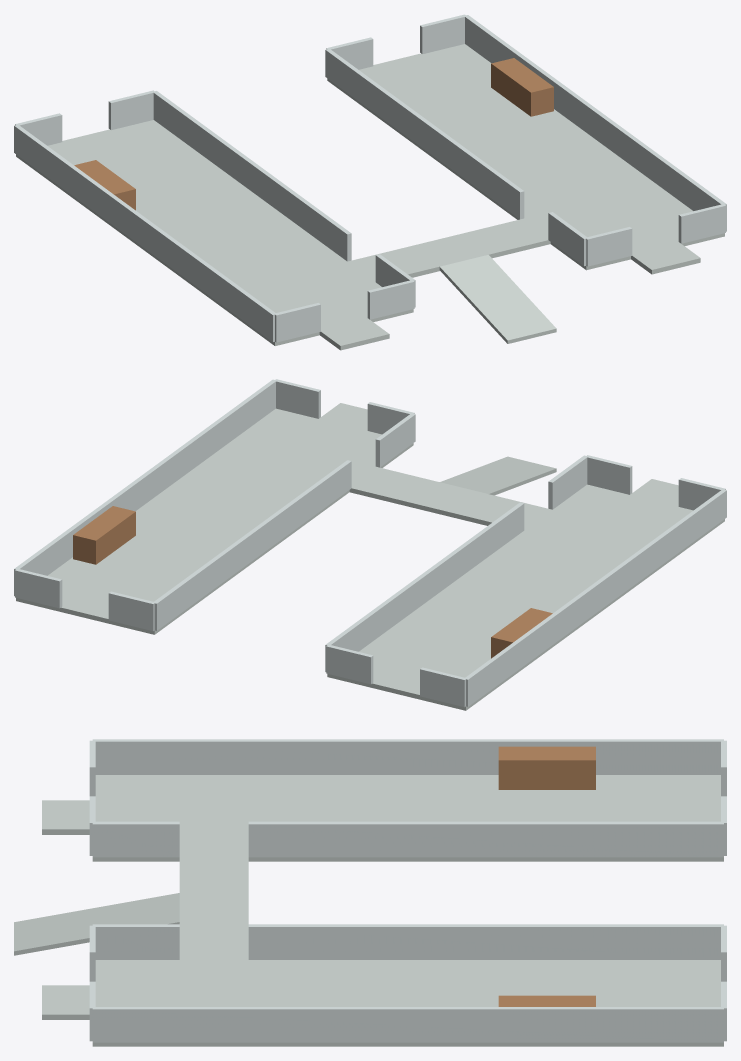
Rendered from engineering-workshop-cutaway.glb.
3 views of the same model, one above another, from view 1: azimuth 30°, elevation 25°; view 2: azimuth 150°, elevation 25°; view 3: azimuth 270°, elevation 25° (orthographic). The views are drawn at different scales.
Visible parts, largest first — view 1: engineering-workshop/bank-floor-1/cutaway.002, engineering-workshop/bank-floor--1/cutaway.002, engineering-workshop/bank-wall--1--7.809999999999999/cutaway, engineering-workshop/bank-wall-1-7.809999999999999/cutaway.0, engineering-workshop/bridge-bank-wall-1-rear/cutaway.002, engineering-workshop/bridge-bank-wall--1-rear/cutaway.002, waterworks-entry-ramp.005, engineering-workshop/elevated-channel-catwalk/cutaway.002, engineering-workshop/bench-1/cutaway.002, engineering-workshop/end--1-7.785-1/cutaway.002, engineering-workshop/end-1-7.785-1/cutaway.002, engineering-workshop/end-1-7.785--1/cutaway.002 (+10 smaller); view 2: engineering-workshop/bank-floor-1/cutaway.002, engineering-workshop/bank-floor--1/cutaway.002, engineering-workshop/bank-wall--1--7.809999999999999/cutaway, engineering-workshop/bank-wall-1-7.809999999999999/cutaway.0, engineering-workshop/bridge-bank-wall-1-rear/cutaway.002, engineering-workshop/bridge-bank-wall--1-rear/cutaway.002, engineering-workshop/elevated-channel-catwalk/cutaway.002, engineering-workshop/bench-1/cutaway.002, waterworks-entry-ramp.005, engineering-workshop/end-1--7.785-1/cutaway.002, engineering-workshop/end--1--7.785-1/cutaway.002, engineering-workshop/end-1--7.785--1/cutaway.002 (+10 smaller); view 3: engineering-workshop/bank-floor--1/cutaway.002, engineering-workshop/bank-floor-1/cutaway.002, engineering-workshop/bank-wall-1-7.809999999999999/cutaway.0, engineering-workshop/bank-wall--1--7.809999999999999/cutaway, engineering-workshop/bridge-bank-wall--1-rear/cutaway.002, engineering-workshop/bridge-bank-wall-1-rear/cutaway.002, engineering-workshop/elevated-channel-catwalk/cutaway.002, waterworks-entry-ramp.005, engineering-workshop/bench--1/cutaway.002, engineering-workshop/bridge-bank-wall--1-front/cutaway.002, engineering-workshop/bridge-bank-wall-1-front/cutaway.002, engineering-workshop/portal-floor-0/cutaway.002 (+2 smaller).
Part boxes in pixels (x1,y1,x2,y2): engineering-workshop/bank-floor-1/cutaway.002: (327,44,724,270); engineering-workshop/bank-floor--1/cutaway.002: (16,120,413,345); engineering-workshop/bank-wall--1--7.809999999999999/cutaway: (14,124,276,341); engineering-workshop/bank-wall-1-7.809999999999999/cutaway.0: (464,15,726,231); engineering-workshop/bridge-bank-wall-1-rear/cutaway.002: (325,48,524,219); engineering-workshop/bridge-bank-wall--1-rear/cutaway.002: (153,91,351,261); waterworks-entry-ramp.005: (439,255,556,343); engineering-workshop/elevated-channel-catwalk/cutaway.002: (350,219,550,279); engineering-workshop/bench-1/cutaway.002: (491,58,553,116); engineering-workshop/end--1-7.785-1/cutaway.002: (367,280,414,319); engineering-workshop/end-1-7.785-1/cutaway.002: (678,204,725,243); engineering-workshop/end-1-7.785--1/cutaway.002: (586,227,632,266); engineering-workshop/bank-floor-1/cutaway.002: (16,408,413,634); engineering-workshop/bank-floor--1/cutaway.002: (327,484,724,710); engineering-workshop/bank-wall--1--7.809999999999999/cutaway: (464,489,726,706); engineering-workshop/bank-wall-1-7.809999999999999/cutaway.0: (14,379,276,596); engineering-workshop/bridge-bank-wall-1-rear/cutaway.002: (154,460,351,630); engineering-workshop/bridge-bank-wall--1-rear/cutaway.002: (325,502,524,671); engineering-workshop/elevated-channel-catwalk/cutaway.002: (349,467,550,527); engineering-workshop/bench-1/cutaway.002: (73,506,135,564); waterworks-entry-ramp.005: (440,456,556,495); engineering-workshop/end-1--7.785-1/cutaway.002: (15,568,62,608); engineering-workshop/end--1--7.785-1/cutaway.002: (326,644,373,684); engineering-workshop/end-1--7.785--1/cutaway.002: (108,591,155,631); engineering-workshop/bank-floor--1/cutaway.002: (92,775,723,861); engineering-workshop/bank-floor-1/cutaway.002: (92,958,723,1046); engineering-workshop/bank-wall-1-7.809999999999999/cutaway.0: (92,1007,723,1042); engineering-workshop/bank-wall--1--7.809999999999999/cutaway: (92,739,723,774); engineering-workshop/bridge-bank-wall--1-rear/cutaway.002: (248,821,723,857); engineering-workshop/bridge-bank-wall-1-rear/cutaway.002: (248,924,723,959); engineering-workshop/elevated-channel-catwalk/cutaway.002: (179,856,248,958); waterworks-entry-ramp.005: (14,893,179,955); engineering-workshop/bench--1/cutaway.002: (498,746,595,789); engineering-workshop/bridge-bank-wall--1-front/cutaway.002: (92,821,179,857); engineering-workshop/bridge-bank-wall-1-front/cutaway.002: (92,924,179,959); engineering-workshop/portal-floor-0/cutaway.002: (42,800,89,834).
Bounding box in the file's own units: 15.77 × 1.82 × 17.59.
